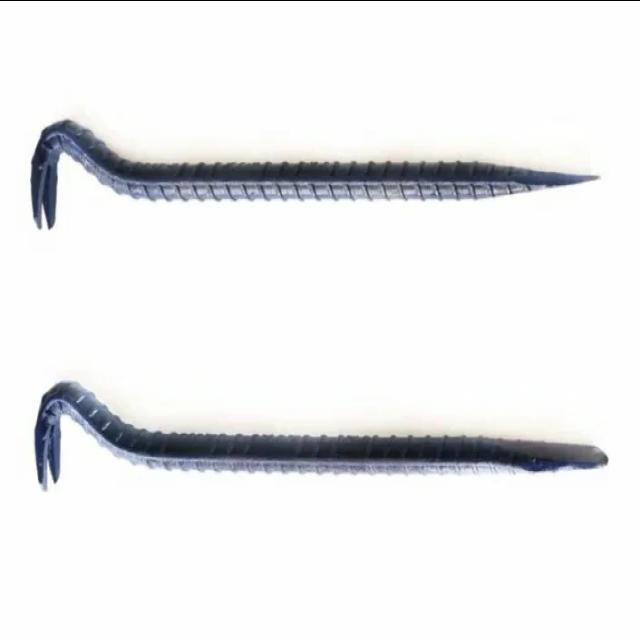Linggis: (35, 381, 609, 492)
